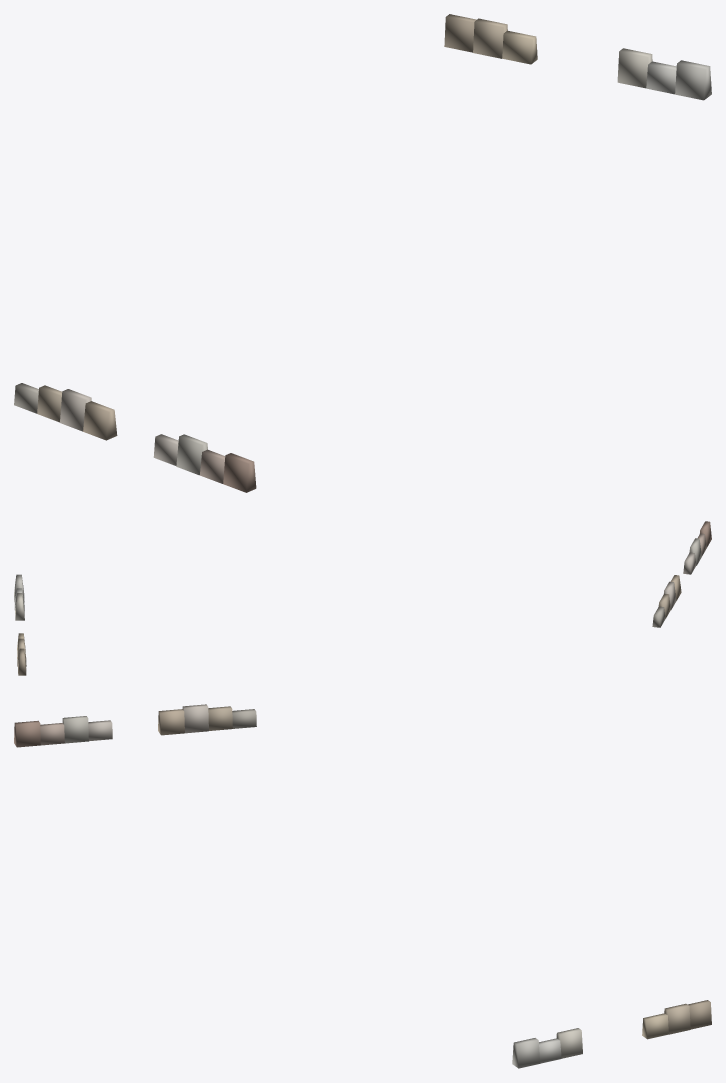
File: farm_-46_-43_collision.glb
The picture shows the model from 3 angles, top to bottom: view 1: azimuth 30°, elevation 25°; view 2: azimuth 150°, elevation 25°; view 3: azimuth 270°, elevation 25°; orthographic projection. The views are drawn at different scales.
Visible parts, largest first — view 1: geometry_0; view 2: geometry_0; view 3: geometry_0.
Part boxes in pixels (x1=…): geometry_0: x1=14, y1=14, x2=711, y2=492; geometry_0: x1=14, y1=521, x2=711, y2=675; geometry_0: x1=14, y1=704, x2=711, y2=1068.
Bounding box in the file's own units: 45.59 × 3.74 × 41.57.
